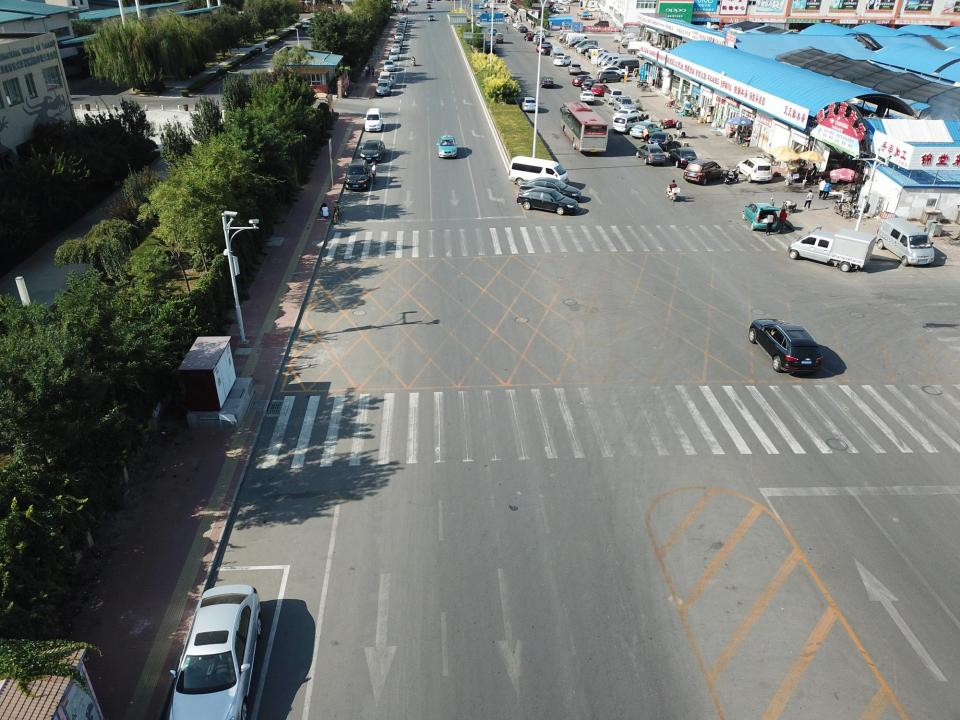bus: (560, 101, 609, 154)
car: (166, 582, 262, 720), (748, 318, 823, 374), (516, 187, 579, 215), (519, 176, 582, 204), (682, 158, 725, 185), (740, 202, 778, 231), (736, 157, 773, 183), (344, 160, 370, 192), (611, 114, 649, 134), (635, 144, 666, 166), (630, 120, 663, 140), (668, 148, 698, 168), (360, 139, 386, 162), (612, 95, 640, 116), (436, 134, 458, 159), (612, 108, 645, 124), (364, 107, 382, 132), (647, 131, 673, 148), (596, 70, 627, 83), (597, 65, 628, 78), (572, 74, 595, 87), (519, 97, 538, 112), (590, 83, 610, 97), (580, 78, 601, 91), (375, 79, 391, 96), (579, 89, 594, 105), (576, 44, 600, 53), (553, 55, 571, 66), (540, 45, 558, 56), (567, 63, 582, 76), (538, 76, 554, 88), (581, 47, 605, 55), (535, 44, 554, 53), (570, 40, 591, 48), (591, 20, 609, 29), (383, 59, 396, 71), (532, 30, 550, 38), (484, 43, 496, 54), (552, 52, 566, 61), (524, 32, 537, 41), (391, 39, 403, 48), (390, 44, 400, 54), (394, 32, 404, 42), (388, 52, 399, 61), (487, 27, 497, 36), (533, 35, 543, 44), (555, 8, 568, 14), (586, 6, 599, 12), (395, 30, 404, 38), (518, 26, 528, 33), (398, 25, 406, 33), (516, 22, 524, 30), (396, 28, 405, 35), (406, 1, 418, 6), (474, 21, 482, 28), (512, 22, 522, 27), (427, 15, 435, 21), (499, 10, 507, 16), (476, 12, 483, 18), (398, 21, 406, 26), (400, 19, 406, 25), (490, 3, 496, 9), (478, 3, 484, 9), (484, 2, 490, 8), (426, 4, 432, 9)
truck: (585, 48, 610, 60), (592, 52, 615, 63), (621, 38, 642, 48), (580, 10, 589, 20)
van: (787, 227, 877, 273), (876, 217, 935, 267), (508, 156, 570, 192), (626, 41, 654, 55), (602, 88, 622, 105), (606, 58, 632, 71), (615, 59, 639, 73), (600, 55, 629, 66), (566, 33, 590, 46), (574, 40, 598, 52), (597, 53, 620, 65), (379, 71, 395, 88), (567, 36, 585, 46), (559, 33, 578, 42), (550, 46, 562, 59), (559, 30, 577, 38), (301, 20, 313, 31), (494, 32, 503, 44), (401, 15, 408, 23)
